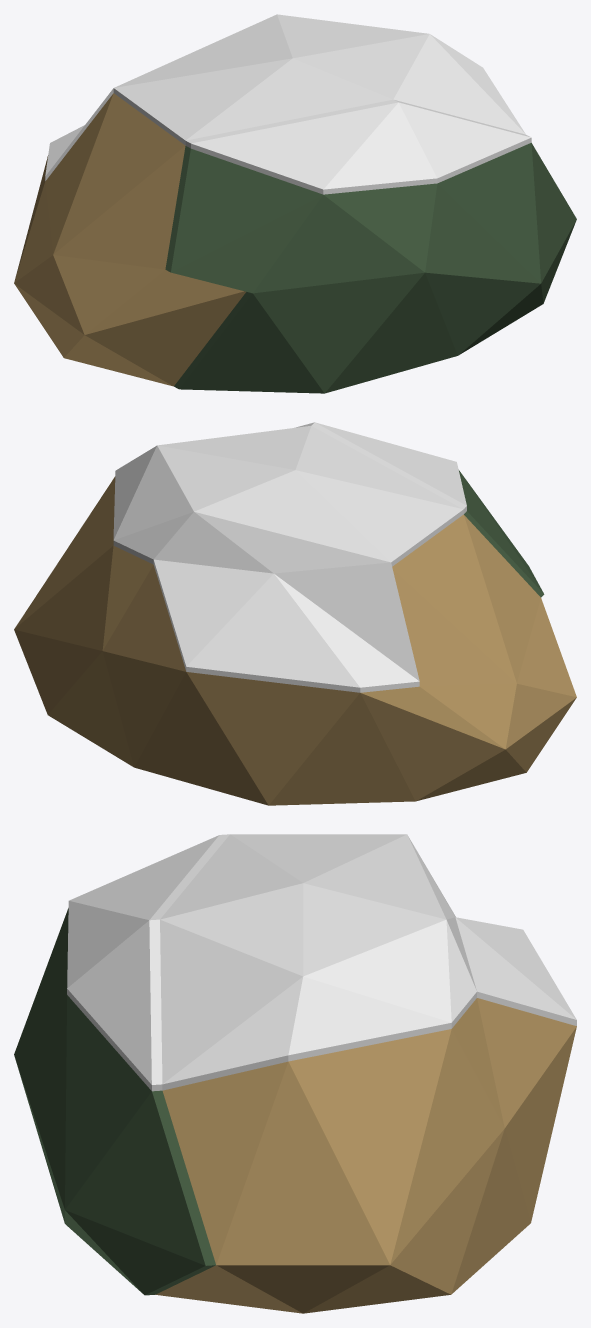
File: MossStone2Sb.fbx
3 renders of one model, top to bottom at view 1: azimuth 30°, elevation 25°; view 2: azimuth 150°, elevation 25°; view 3: azimuth 270°, elevation 25°, orthographic. The views are drawn at different scales.
Visible parts, largest first — view 1: MossStone2S.001; view 2: MossStone2S.001; view 3: MossStone2S.001.
Part boxes in pixels (x1=…): MossStone2S.001: x1=14, y1=14, x2=576, y2=393; MossStone2S.001: x1=14, y1=422, x2=576, y2=805; MossStone2S.001: x1=14, y1=834, x2=576, y2=1313.
Bounding box in the file's own units: 493 × 235 × 400.
